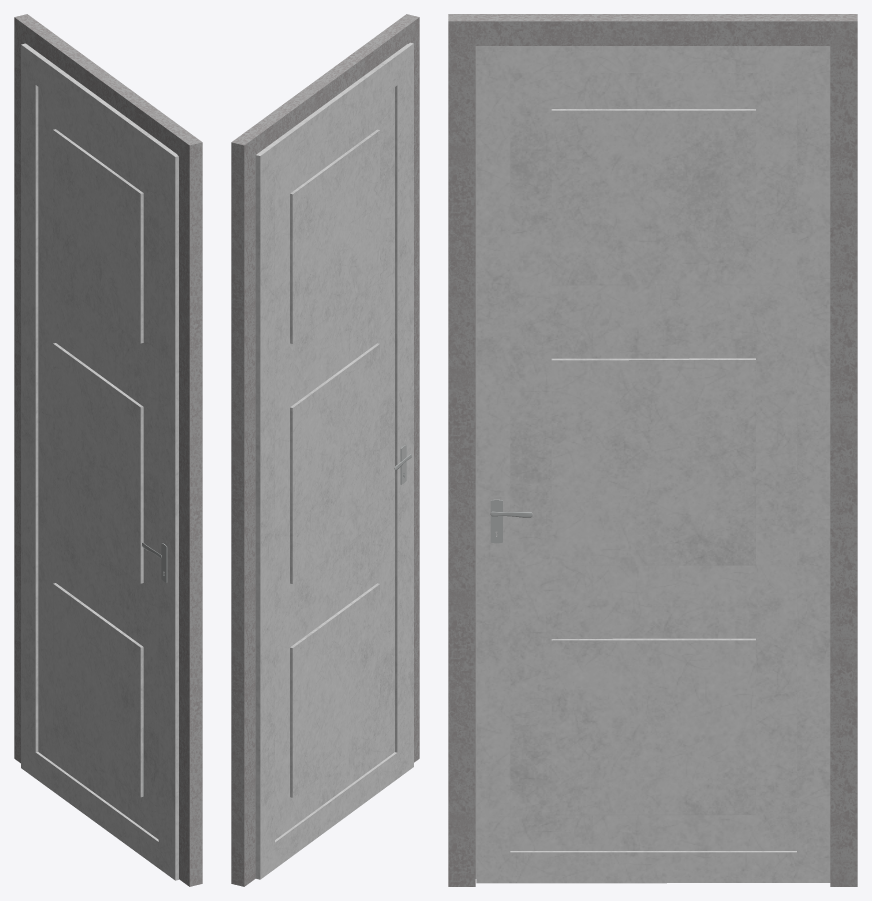
Rendered from Door.fbx.
3 views of the same model, side by side, from view 1: azimuth 30°, elevation 25°; view 2: azimuth 150°, elevation 25°; view 3: azimuth 270°, elevation 25° (orthographic). The views are drawn at different scales.
Parts seen in each view (by area): view 1: Door, Door_Frame; view 2: Door, Door_Frame; view 3: Door, Door_Frame.
Part boxes in pixels (x1=…): Door: x1=21, y1=43, x2=178, y2=880; Door_Frame: x1=14, y1=14, x2=202, y2=886; Door: x1=255, y1=42, x2=413, y2=879; Door_Frame: x1=231, y1=14, x2=419, y2=886; Door: x1=475, y1=46, x2=830, y2=883; Door_Frame: x1=448, y1=14, x2=857, y2=886.
Bounding box in the file's own units: 0.074 × 2.1 × 0.9.
